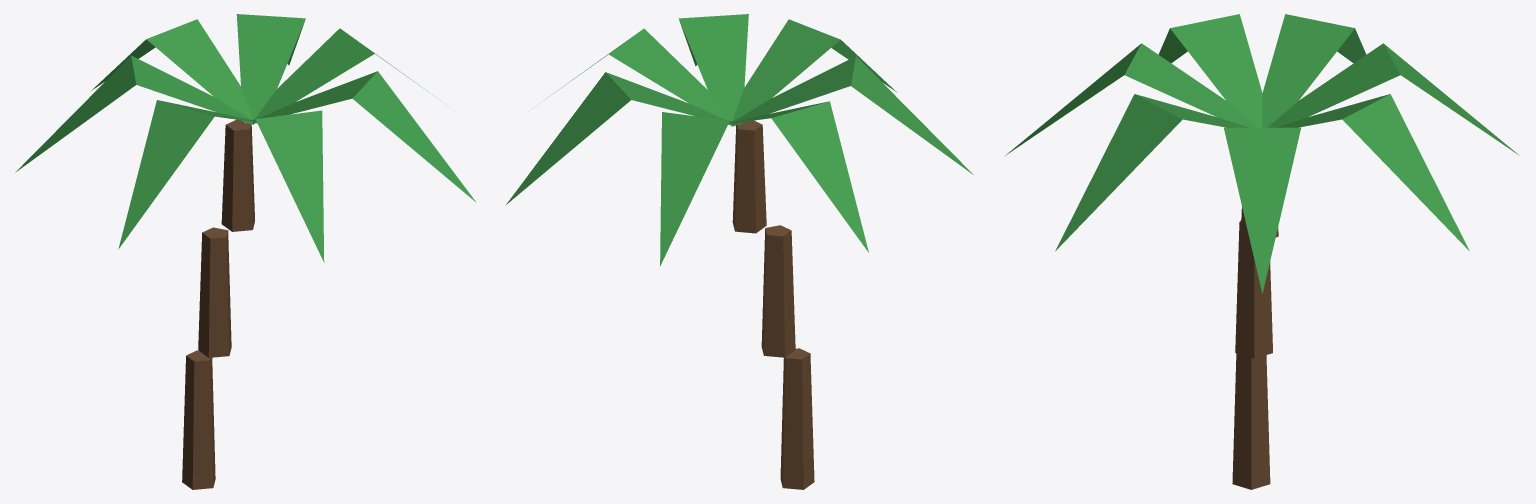
Rendered from tree_palm.glb.
3 views of the same model, side by side, from view 1: azimuth 30°, elevation 25°; view 2: azimuth 150°, elevation 25°; view 3: azimuth 270°, elevation 25° (orthographic). The views are drawn at different scales.
Visible parts, largest first — view 1: tree_palm; view 2: tree_palm; view 3: tree_palm.
Boxes of the visible parts, <box> form: tree_palm: <box>15,14,476,489</box>; tree_palm: <box>505,14,973,489</box>; tree_palm: <box>1005,14,1519,489</box>.
Bounding box in the file's own units: 0.4562 × 0.44 × 0.468.
